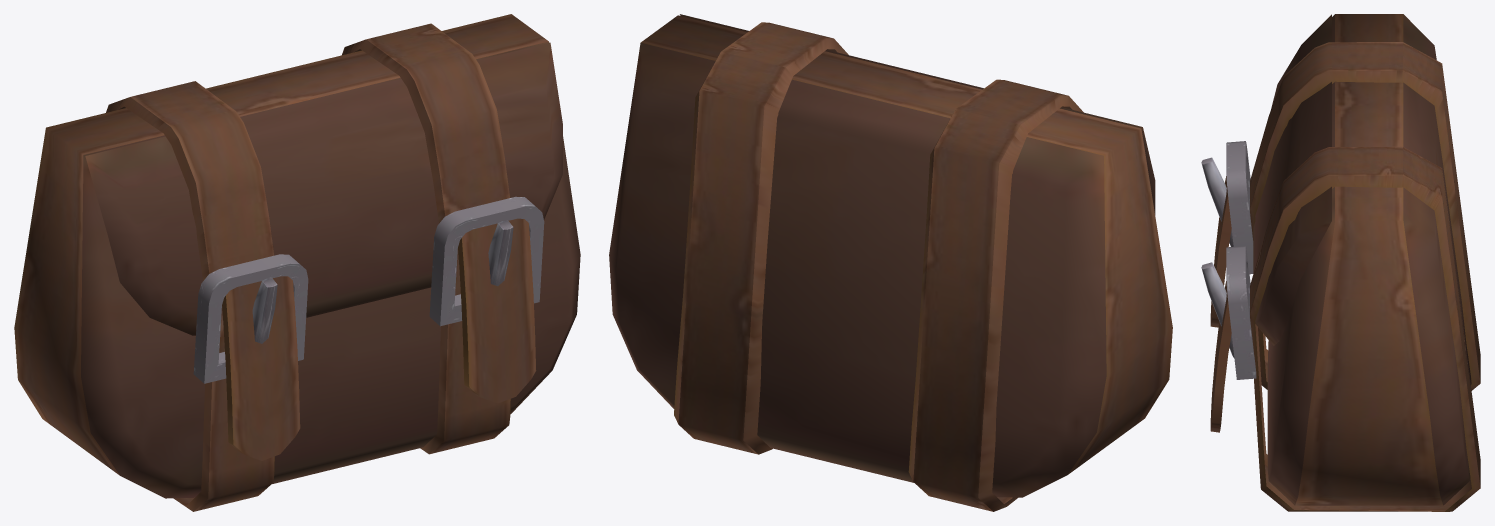
Rendered from Pouch_Large.gltf.
3 views of the same model, side by side, from view 1: azimuth 30°, elevation 25°; view 2: azimuth 150°, elevation 25°; view 3: azimuth 270°, elevation 25° (orthographic). The views are drawn at different scales.
Parts seen in each view (by area): view 1: Pouch_Large; view 2: Pouch_Large; view 3: Pouch_Large.
Part boxes in pixels (<box>): Pouch_Large: <box>14,14,580,511</box>; Pouch_Large: <box>609,14,1172,511</box>; Pouch_Large: <box>1201,14,1480,511</box>.
Bounding box in the file's own units: 0.2255 × 0.1591 × 0.1198.
2 materials, 2 textured.
